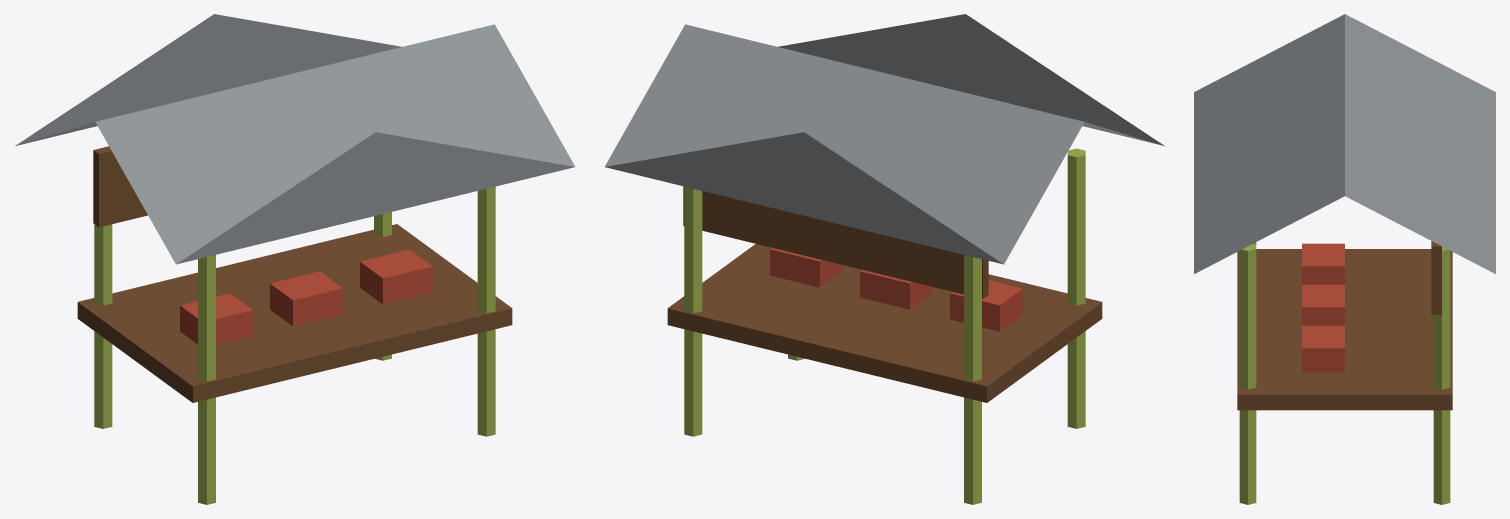
Rendered from market_stall.obj.
The picture shows the model from 3 angles, left to right: view 1: azimuth 30°, elevation 25°; view 2: azimuth 150°, elevation 25°; view 3: azimuth 270°, elevation 25°; orthographic projection. The views are drawn at different scales.
Parts seen in each view (by area): view 1: awning, counter, post, goods, shelf; view 2: awning, counter, post, shelf, goods; view 3: awning, counter, post, goods, shelf.
Boxes of the visible parts, bbox=[...] form: awning: bbox=[15, 14, 575, 264]; counter: bbox=[77, 224, 512, 402]; post: bbox=[94, 186, 495, 504]; goods: bbox=[180, 249, 432, 345]; shelf: bbox=[93, 146, 147, 227]; awning: bbox=[604, 14, 1164, 264]; counter: bbox=[667, 244, 1102, 402]; post: bbox=[684, 148, 1085, 504]; shelf: bbox=[683, 186, 988, 298]; goods: bbox=[770, 248, 1022, 331]; awning: bbox=[1194, 14, 1495, 273]; counter: bbox=[1237, 249, 1452, 410]; post: bbox=[1239, 242, 1450, 504]; goods: bbox=[1302, 243, 1344, 372]; shelf: bbox=[1431, 241, 1441, 314].
Size of the model in its own units: 4 by 3.4 by 2.8.
